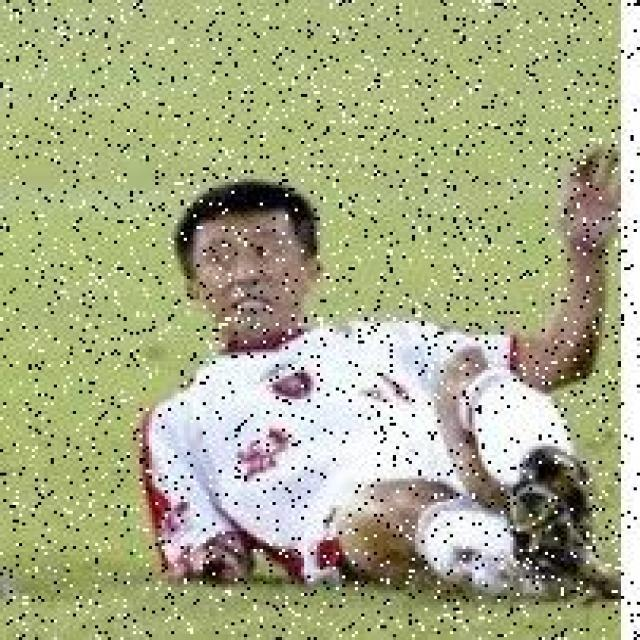fall: (137, 164, 618, 602)
